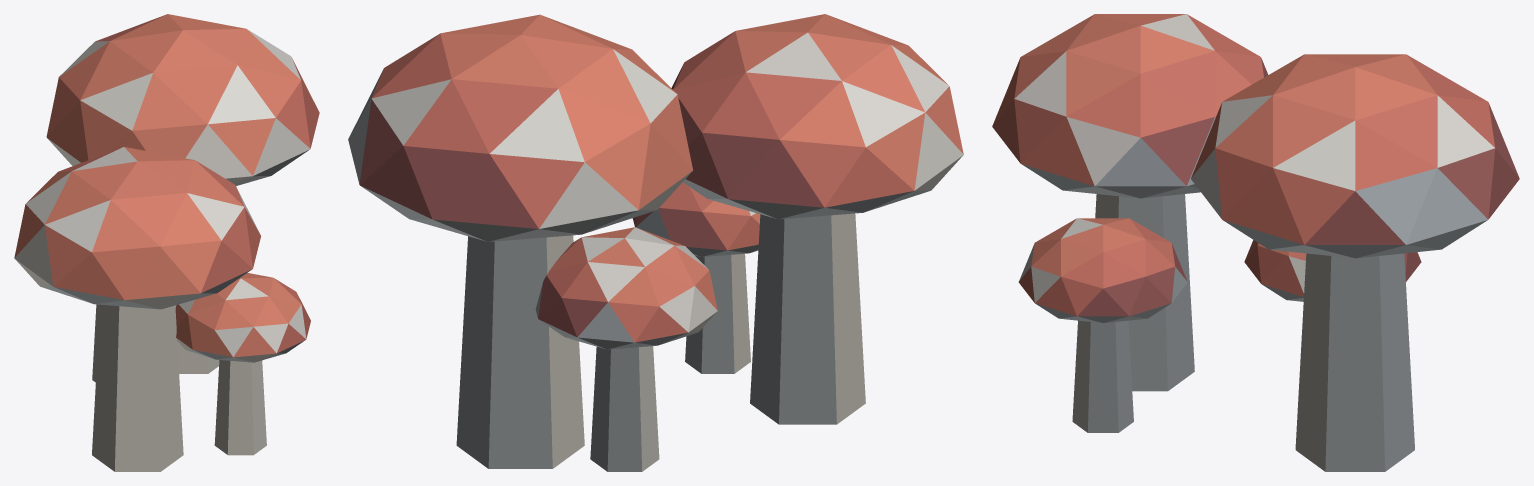
Rendered from mushrooms.glb.
3 renders of one model, left to right at view 1: azimuth 30°, elevation 25°; view 2: azimuth 150°, elevation 25°; view 3: azimuth 270°, elevation 25°, orthographic. The views are drawn at different scales.
Visible parts, largest first — view 1: mushrooms; view 2: mushrooms; view 3: mushrooms.
Boxes of the visible parts, box(x1,y1,x2,y2) form: mushrooms: box(14, 14, 319, 471); mushrooms: box(348, 14, 963, 471); mushrooms: box(992, 14, 1519, 471).
Size of the model in its own units: 0.7685 by 0.6718 by 0.839.
